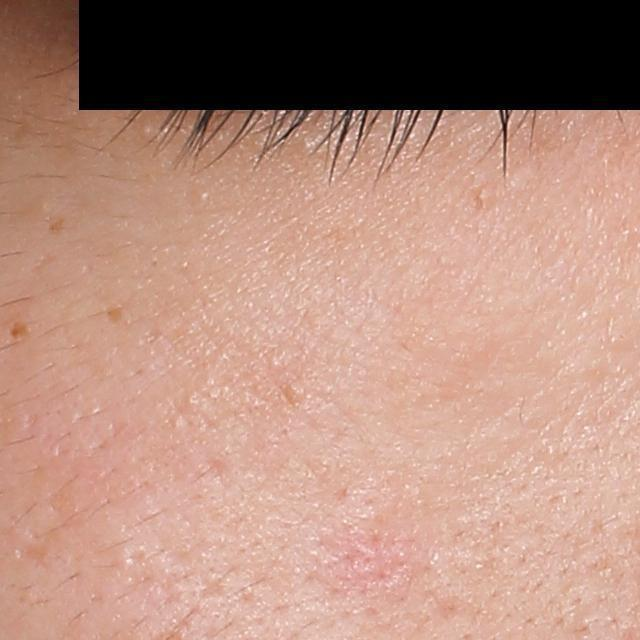comedo: (475, 188, 490, 206)
melasma: (9, 317, 35, 340), (103, 303, 124, 325), (44, 215, 64, 236)
